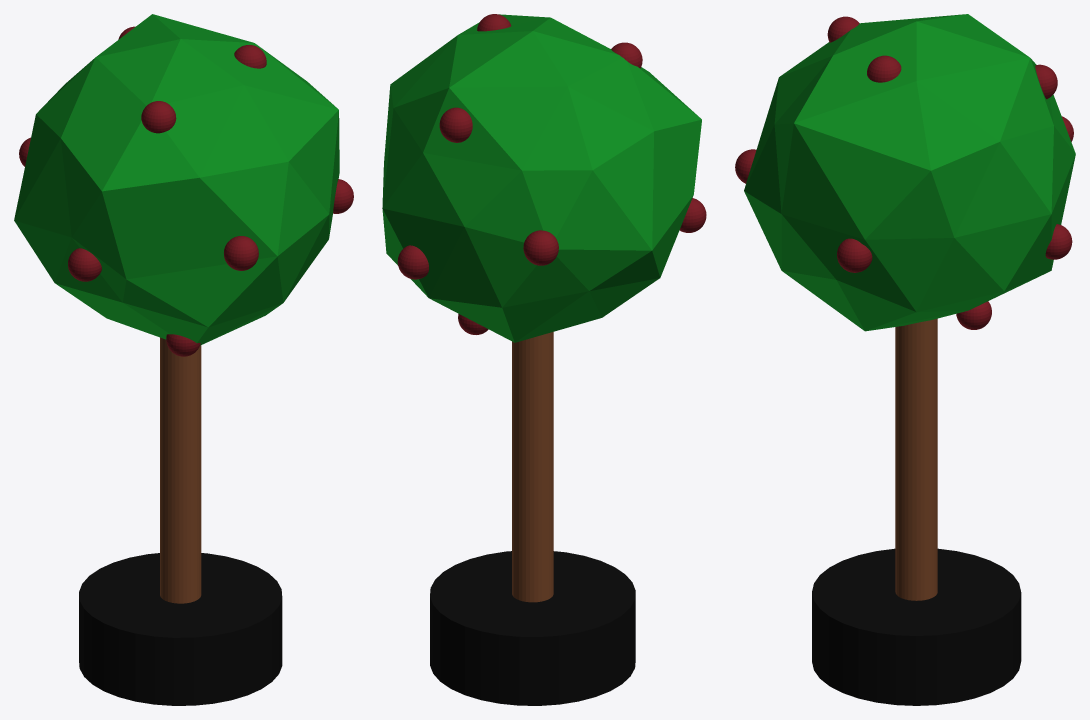
File: apple_tree.glb
3 renders of one model, left to right at view 1: azimuth 30°, elevation 25°; view 2: azimuth 150°, elevation 25°; view 3: azimuth 270°, elevation 25°, orthographic. The views are drawn at different scales.
Parts seen in each view (by area): view 1: Icosphere, Cylinder, Cylinder.001, Sphere, Sphere.005, Sphere.007, Sphere.006, Sphere.008, Sphere.003; view 2: Icosphere, Cylinder, Cylinder.001, Sphere.001, Sphere.004, Sphere.002, Sphere.007; view 3: Icosphere, Cylinder, Cylinder.001, Sphere.003, Sphere.006, Sphere.009, Sphere.002, Sphere.004.
Part boxes in pixels (x1,y1,x2,y2): Icosphere: (14, 14, 339, 345); Cylinder: (79, 553, 282, 705); Cylinder.001: (160, 337, 201, 603); Sphere: (224, 236, 258, 270); Sphere.005: (141, 101, 176, 133); Sphere.007: (68, 248, 101, 281); Sphere.006: (234, 45, 266, 68); Sphere.008: (166, 334, 200, 356); Sphere.003: (333, 179, 353, 213); Icosphere: (382, 14, 701, 342); Cylinder: (430, 551, 635, 705); Cylinder.001: (512, 332, 553, 602); Sphere.001: (523, 230, 558, 265); Sphere.004: (439, 107, 472, 142); Sphere.002: (397, 245, 428, 279); Sphere.007: (679, 198, 706, 232); Icosphere: (744, 14, 1075, 331); Cylinder: (812, 548, 1021, 705); Cylinder.001: (895, 318, 937, 600); Sphere.003: (837, 238, 872, 272); Sphere.006: (867, 55, 901, 82); Sphere.009: (956, 301, 991, 329); Sphere.002: (1045, 224, 1072, 259); Sphere.004: (1035, 64, 1057, 99).
Bounding box in the file's own units: 4.35 × 9.17 × 4.42.
